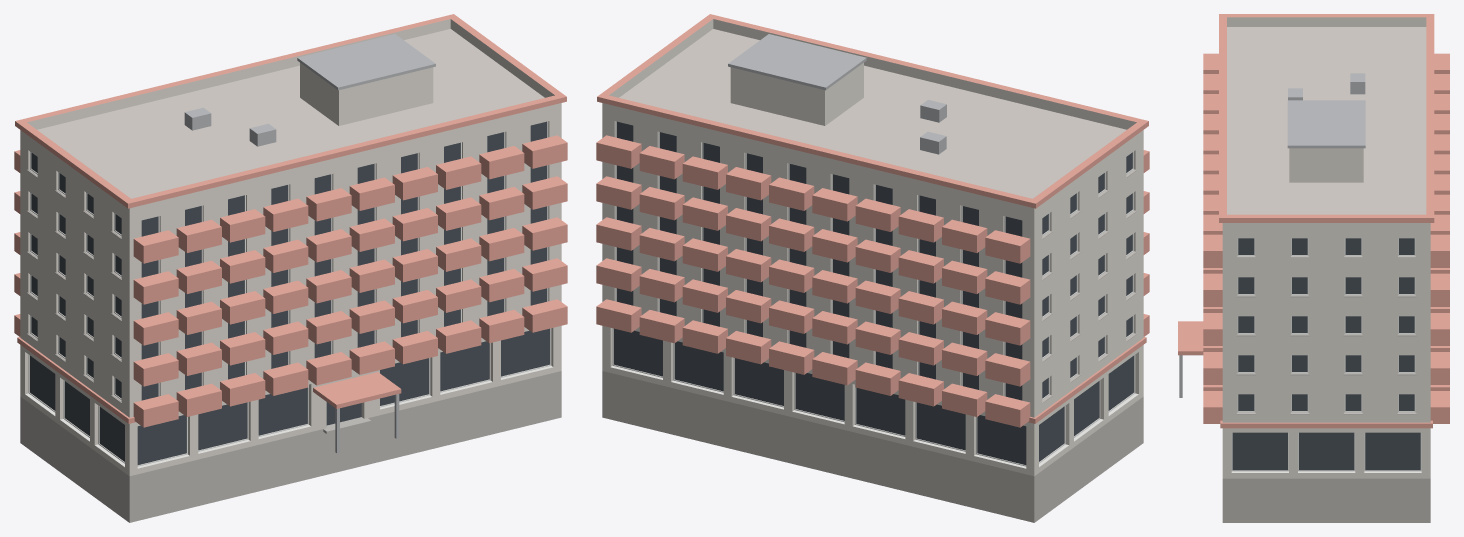
File: hotel_6_l.glb
3 renders of one model, left to right at view 1: azimuth 30°, elevation 25°; view 2: azimuth 150°, elevation 25°; view 3: azimuth 270°, elevation 25°, orthographic. The views are drawn at different scales.
Parts seen in each view (by area): view 1: hotel_6_l; view 2: hotel_6_l; view 3: hotel_6_l.
Part boxes in pixels (box(x1,y1,x2,y2)): hotel_6_l: box(14, 14, 567, 522); hotel_6_l: box(596, 14, 1149, 522); hotel_6_l: box(1178, 14, 1449, 522).
Bounding box in the file's own units: 32.5 × 24.85 × 18.3.
